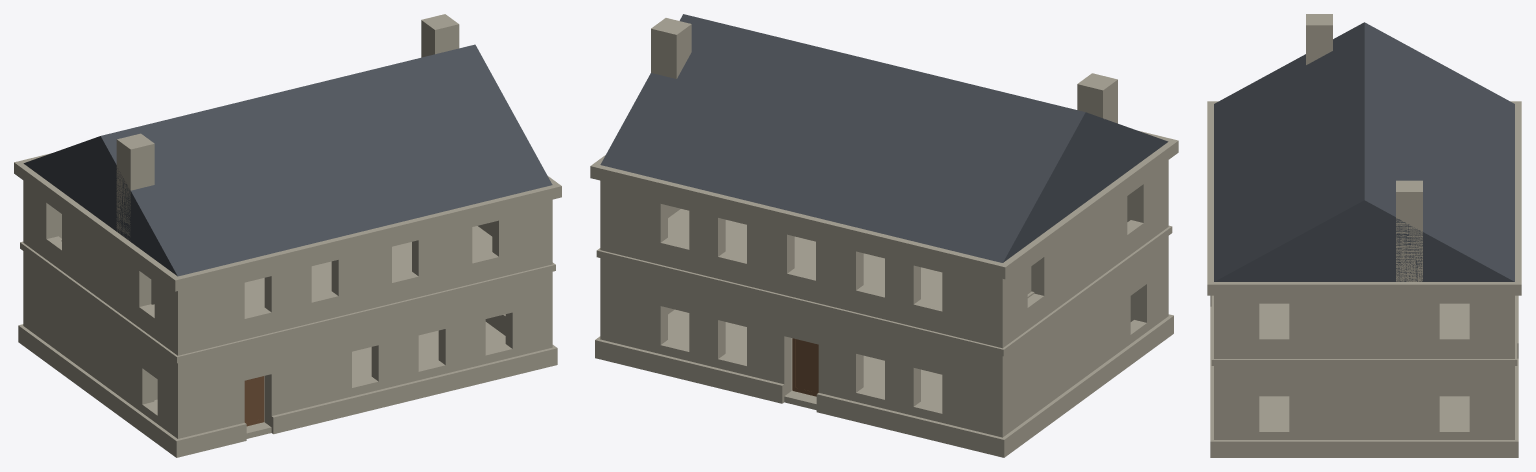
The picture shows the model from 3 angles, left to right: view 1: azimuth 30°, elevation 25°; view 2: azimuth 150°, elevation 25°; view 3: azimuth 270°, elevation 25°; orthographic projection. The views are drawn at different scales.
Parts seen in each view (by area): view 1: body_stone, roof_slate, trim_stone, door_timber, roof_stone; view 2: body_stone, roof_slate, trim_stone, door_timber, roof_stone; view 3: roof_slate, body_stone, trim_stone, roof_stone.
Part boxes in pixels (x1=…): body_stone: x1=23, y1=23, x2=552, y2=438; roof_slate: x1=23, y1=44, x2=552, y2=276; trim_stone: x1=14, y1=153, x2=561, y2=457; door_timber: x1=244, y1=376, x2=264, y2=426; roof_stone: x1=116, y1=14, x2=459, y2=152; body_stone: x1=600, y1=27, x2=1168, y2=437; roof_slate: x1=600, y1=14, x2=1168, y2=262; trim_stone: x1=590, y1=130, x2=1178, y2=457; door_timber: x1=792, y1=338, x2=818, y2=396; roof_stone: x1=651, y1=18, x2=1117, y2=93; roof_slate: x1=1214, y1=22, x2=1514, y2=281; body_stone: x1=1214, y1=28, x2=1514, y2=439; trim_stone: x1=1207, y1=101, x2=1521, y2=457; roof_stone: x1=1306, y1=14, x2=1422, y2=194.
Size of what is drawn, in the model's own units: 14.44 by 9.7 by 10.44.
